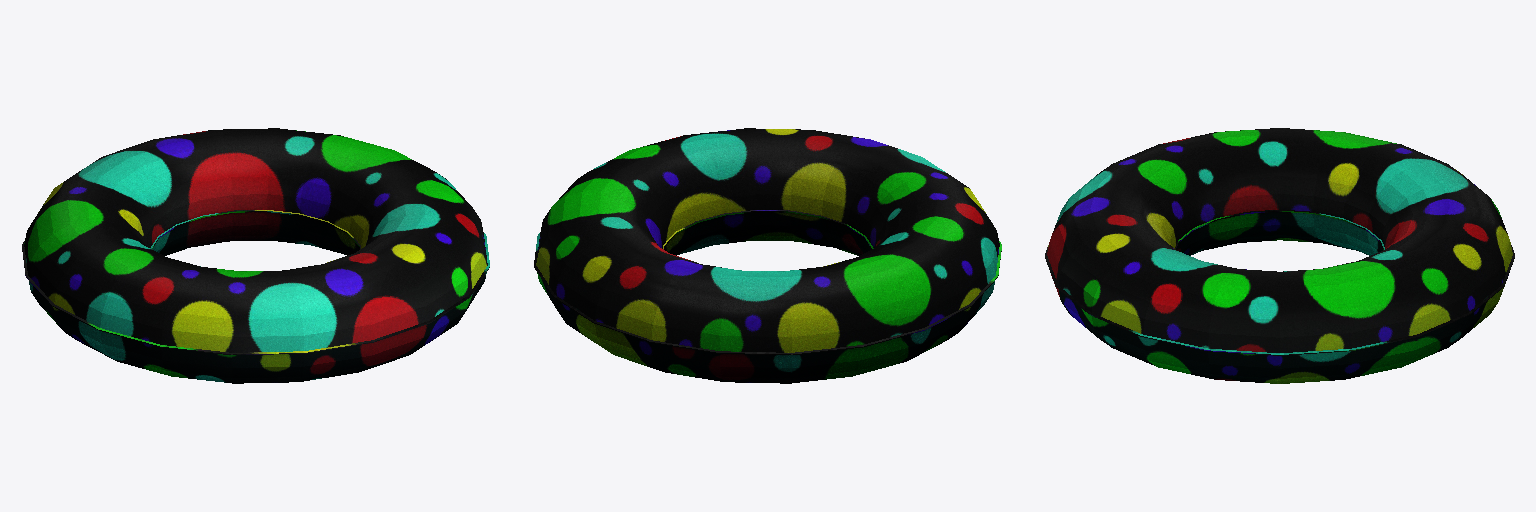
3 views of the same model, side by side, from view 1: azimuth 30°, elevation 25°; view 2: azimuth 150°, elevation 25°; view 3: azimuth 270°, elevation 25° (orthographic).
Parts seen in each view (by area): view 1: pooldonut1; view 2: pooldonut1; view 3: pooldonut1.
Boxes of the visible parts, x1,y1,x2,y2 form: pooldonut1: [22, 128, 489, 383]; pooldonut1: [534, 128, 1001, 383]; pooldonut1: [1045, 128, 1514, 383].
Size of the model in its own units: 1.38 by 0.3252 by 1.38.
Materials: 1 (1 with a texture image).